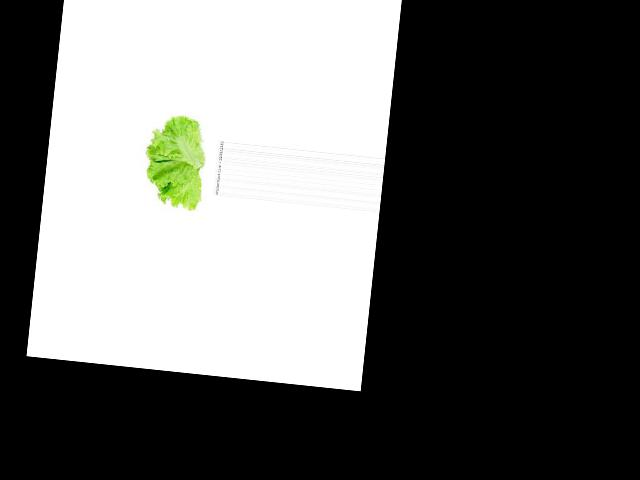lettuce: (131, 102, 222, 224)
